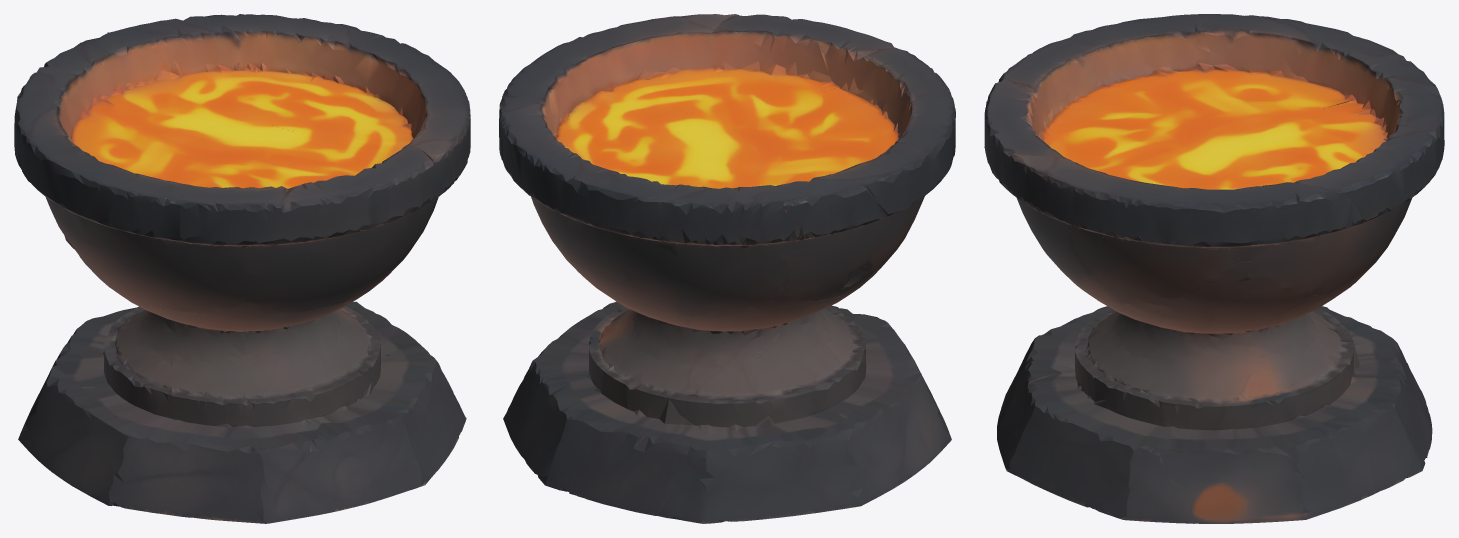
File: Forge_Crucible.glb
3 renders of one model, left to right at view 1: azimuth 30°, elevation 25°; view 2: azimuth 150°, elevation 25°; view 3: azimuth 270°, elevation 25°, orthographic.
Parts seen in each view (by area): view 1: Forge_Crucible; view 2: Forge_Crucible; view 3: Forge_Crucible.
Part boxes in pixels (box(x1,y1,x2,y2)): Forge_Crucible: box(14, 14, 470, 523); Forge_Crucible: box(499, 14, 955, 523); Forge_Crucible: box(984, 14, 1444, 523).
Size of the model in its own units: 2.32 by 1.8 by 2.32.
1 material, 1 textured.
